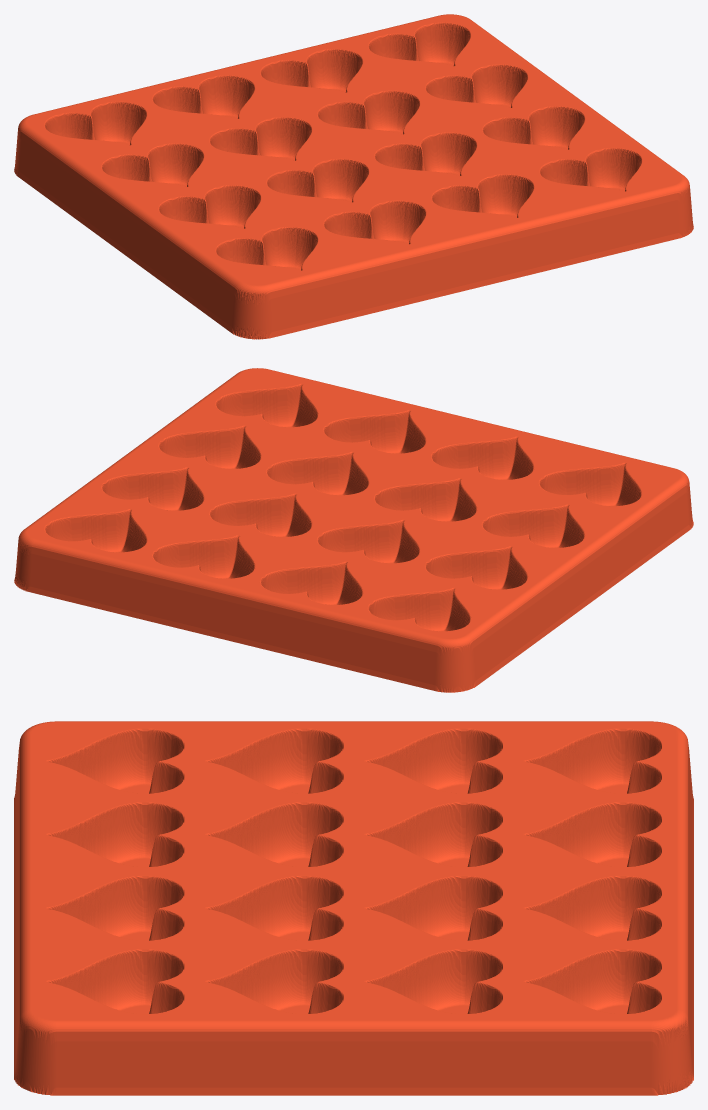
The model's file is mold.glb.
3 renders of one model, top to bottom at view 1: azimuth 30°, elevation 25°; view 2: azimuth 150°, elevation 25°; view 3: azimuth 270°, elevation 25°, orthographic. The views are drawn at different scales.
Parts seen in each view (by area): view 1: geometry_0; view 2: geometry_0; view 3: geometry_0.
Part boxes in pixels (bbox=[...]): geometry_0: bbox=[14, 14, 693, 339]; geometry_0: bbox=[14, 368, 693, 692]; geometry_0: bbox=[14, 721, 693, 1095].
Bounding box in the file's own units: 0.1569 × 0.0159 × 0.1444.
